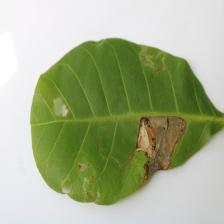leaf miner: (134, 114, 188, 177)
